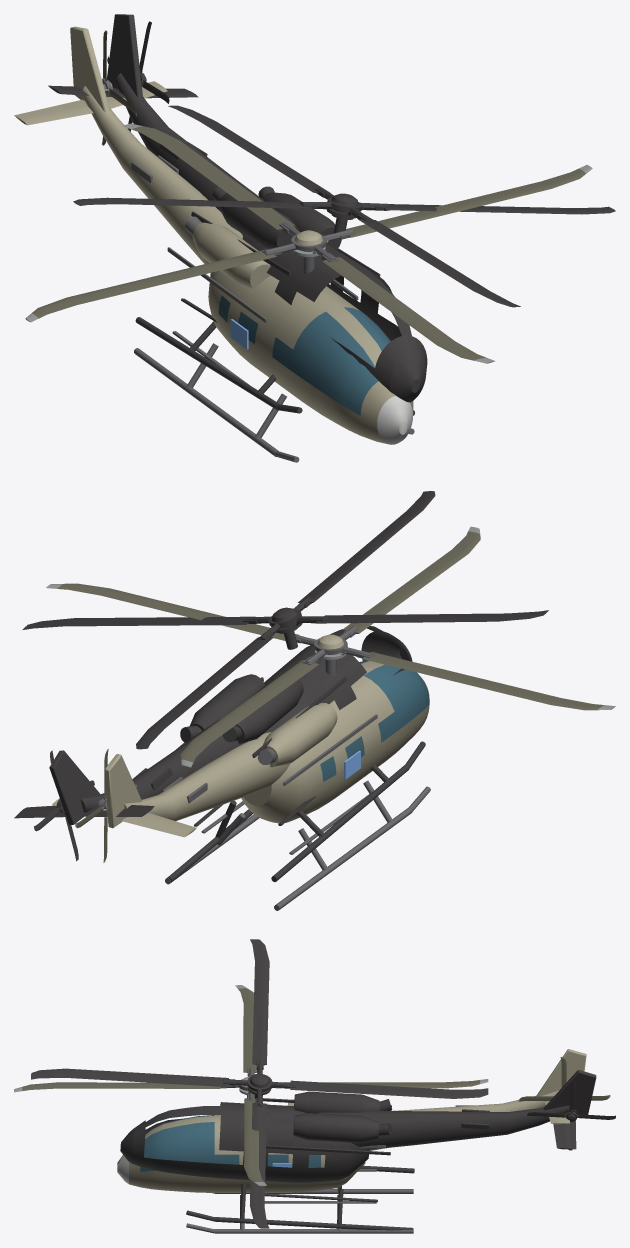
The model's file is helicopter__dhruv_alh.glb.
3 views of the same model, one above another, from view 1: azimuth 30°, elevation 25°; view 2: azimuth 150°, elevation 25°; view 3: azimuth 270°, elevation 25° (orthographic). The views are drawn at different scales.
Visible parts, largest first — view 1: Fuselage_Mesh, Wreck, Rotor_Main_Mesh, Engines_Mesh, Landing_Gear_Mesh; view 2: Wreck, Fuselage_Mesh, Rotor_Main_Mesh, Engines_Mesh, Landing_Gear_Mesh, Rotor_Tail_Mesh; view 3: Wreck, Fuselage_Mesh, Rotor_Main_Mesh, Landing_Gear_Mesh, Rotor_Tail_Mesh.
Boxes of the visible parts, x1,y1,x2,y2 form: Fuselage_Mesh: (14, 26, 413, 444); Wreck: (48, 14, 615, 415); Rotor_Main_Mesh: (25, 123, 592, 363); Engines_Mesh: (184, 216, 270, 288); Landing_Gear_Mesh: (134, 343, 414, 462); Wreck: (14, 491, 548, 882); Fuselage_Mesh: (52, 660, 429, 854); Rotor_Main_Mesh: (46, 526, 615, 767); Engines_Mesh: (257, 702, 337, 767); Landing_Gear_Mesh: (165, 780, 430, 910); Rotor_Tail_Mesh: (75, 749, 136, 862); Wreck: (31, 939, 615, 1230); Fuselage_Mesh: (117, 1049, 586, 1203); Rotor_Main_Mesh: (14, 985, 488, 1186); Landing_Gear_Mesh: (186, 1185, 413, 1233); Rotor_Tail_Mesh: (518, 1057, 610, 1101).
Size of what is drawn, in the model's own units: 13.73 by 5.99 by 16.75.
